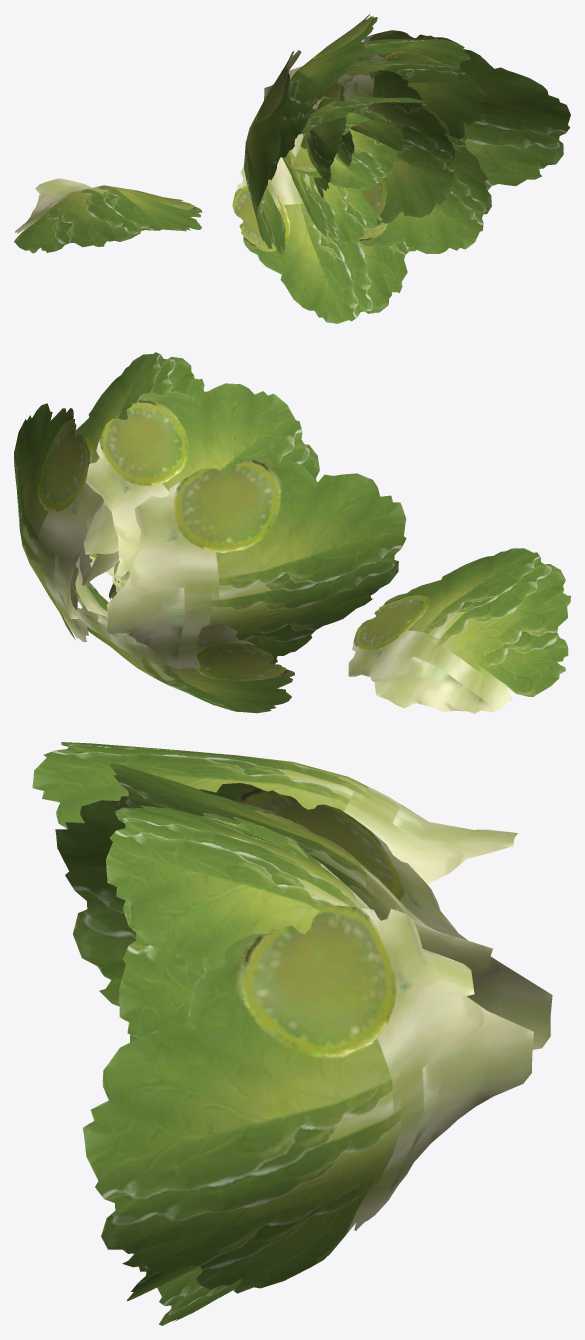
File: lettuce.gltf
3 renders of one model, top to bottom at view 1: azimuth 30°, elevation 25°; view 2: azimuth 150°, elevation 25°; view 3: azimuth 270°, elevation 25°, orthographic. The views are drawn at different scales.
Visible parts, largest first — view 1: model_1; view 2: model_1; view 3: model_1.
Part boxes in pixels (x1,y1,x2,y2): model_1: (14,14,570,323); model_1: (14,352,570,713); model_1: (32,742,552,1325).
Bounding box in the file's own units: 1.04 × 0.5432 × 0.4688.
1 material, 1 textured.
